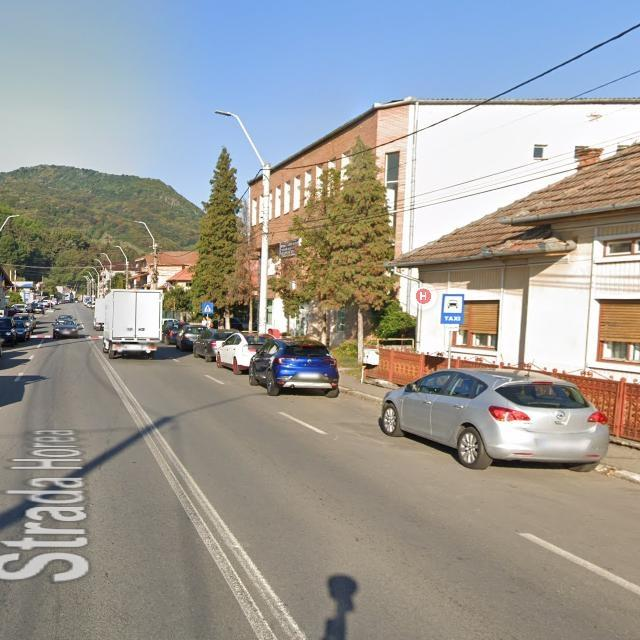info_crosswalk: (202, 302, 213, 314)
